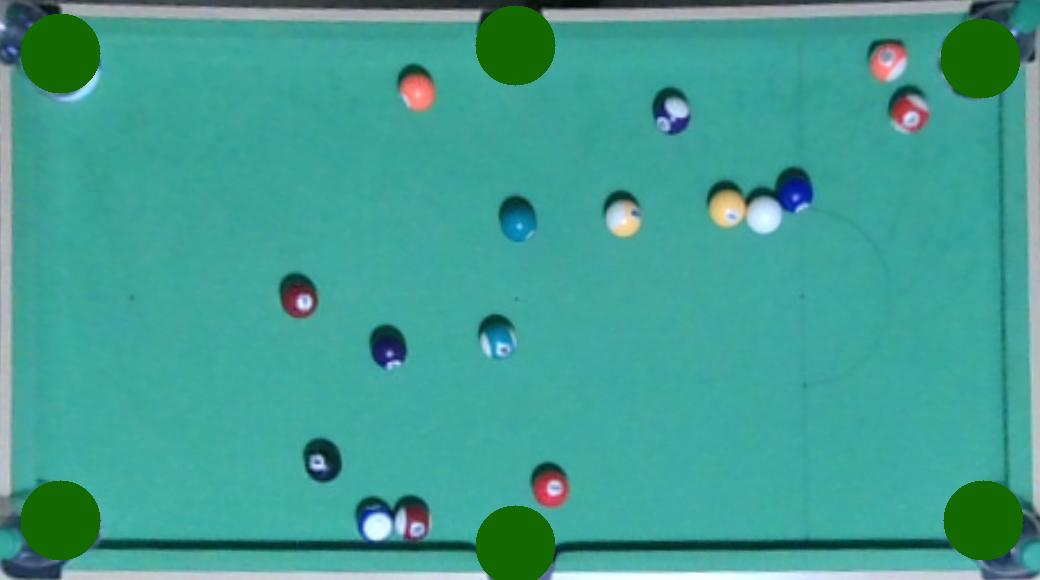Ball: (601, 197, 646, 242), (866, 40, 911, 84), (773, 168, 816, 214), (889, 90, 931, 133), (650, 94, 693, 135), (498, 200, 539, 242), (530, 467, 573, 507), (370, 325, 408, 370), (707, 186, 748, 227), (398, 69, 437, 111), (746, 194, 784, 235), (357, 501, 395, 542), (480, 322, 518, 361), (304, 442, 341, 482), (392, 504, 430, 542), (283, 282, 318, 321)
